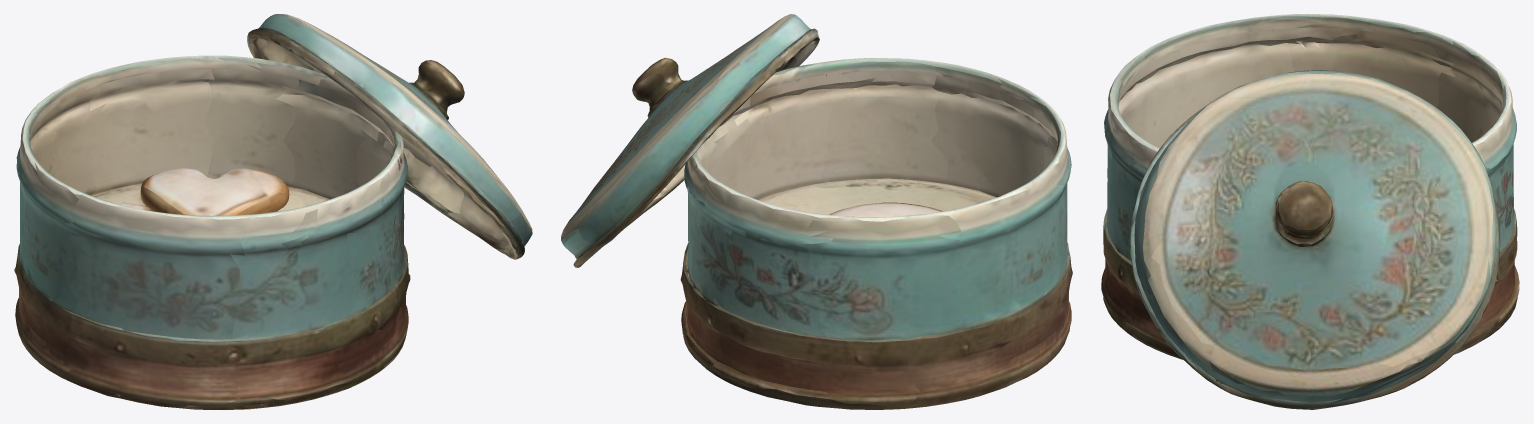
The model's file is cookie-tin.glb.
3 renders of one model, left to right at view 1: azimuth 30°, elevation 25°; view 2: azimuth 150°, elevation 25°; view 3: azimuth 270°, elevation 25°, orthographic. The views are drawn at different scales.
Parts seen in each view (by area): view 1: geometry_0; view 2: geometry_0; view 3: geometry_0.
Part boxes in pixels (box(x1,y1,x2,y2)): geometry_0: box(14, 14, 532, 409); geometry_0: box(561, 14, 1072, 409); geometry_0: box(1101, 14, 1519, 409).
Size of the model in its own units: 0.25 by 0.1404 by 0.1927.
1 material, 1 textured.
